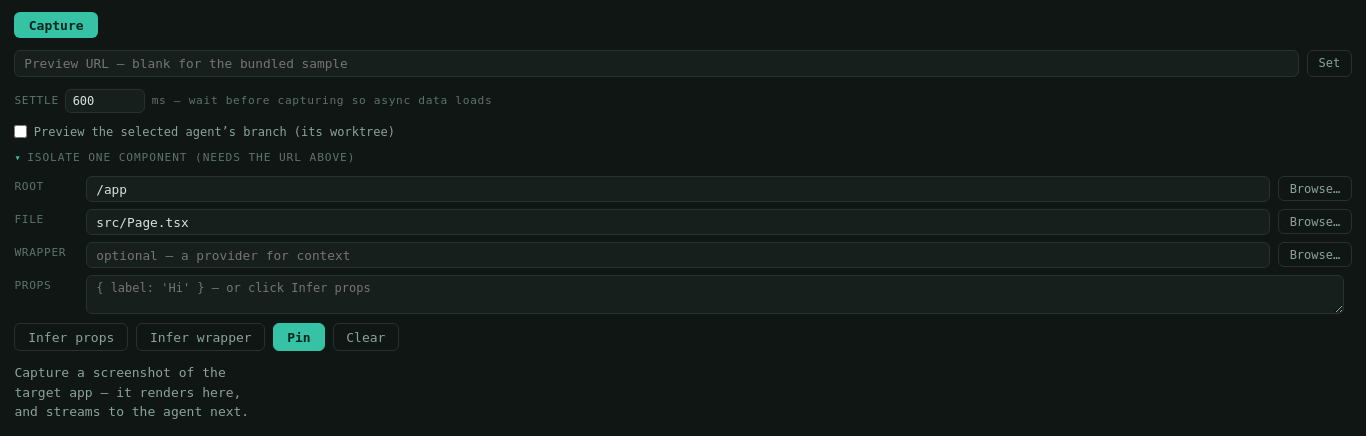
Scenario: Preview › generates a context wrapper via the agent and fills the wrapper field
Check: the field named "Component file" holds "src/Page.tsx", box [86,209,1270,235]
Click the button "Infer wrapper": (201, 337) [136,323,265,351]
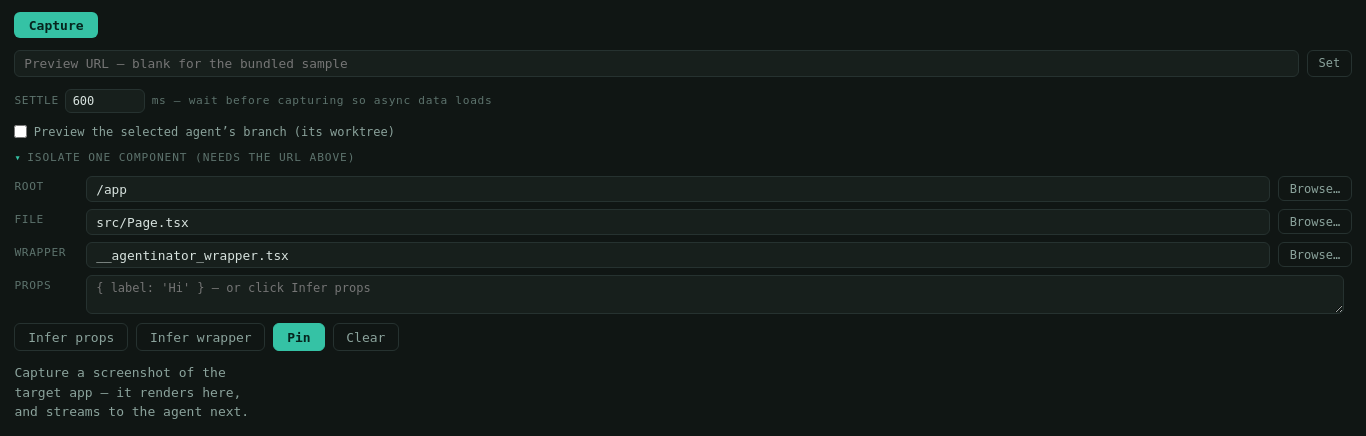
Check: the field named "Wrapper file" holds "__agentinator_wrapper.tsx", box [86,242,1270,268]
